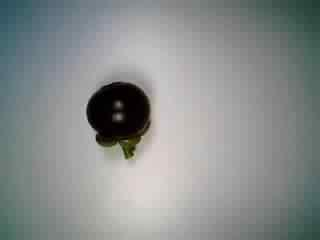mangosteen: (80, 82, 162, 162)
